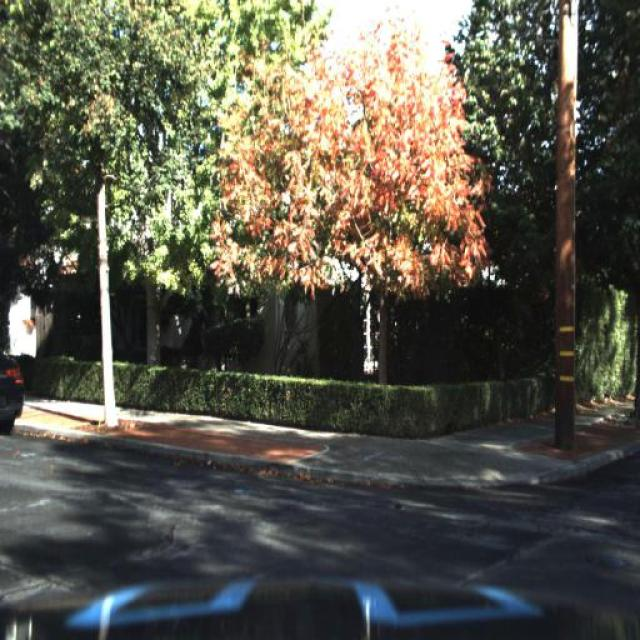car: (0, 323, 26, 458), (0, 328, 26, 450)
